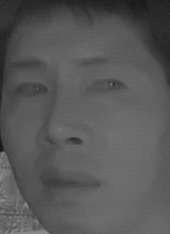eye: (84, 75, 132, 99), (12, 79, 48, 103)
mouth: (36, 166, 101, 206)
